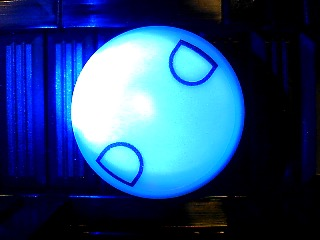MIPO2: (70, 24, 245, 200)
